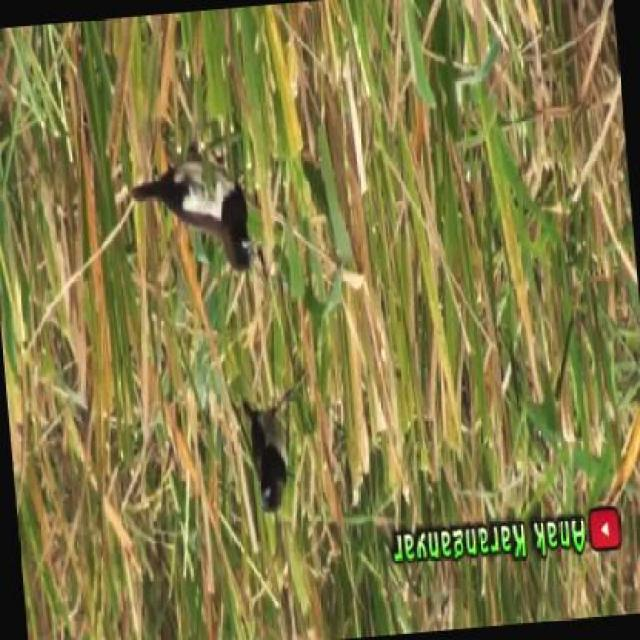Bird: (126, 152, 256, 275), (241, 397, 290, 518)
